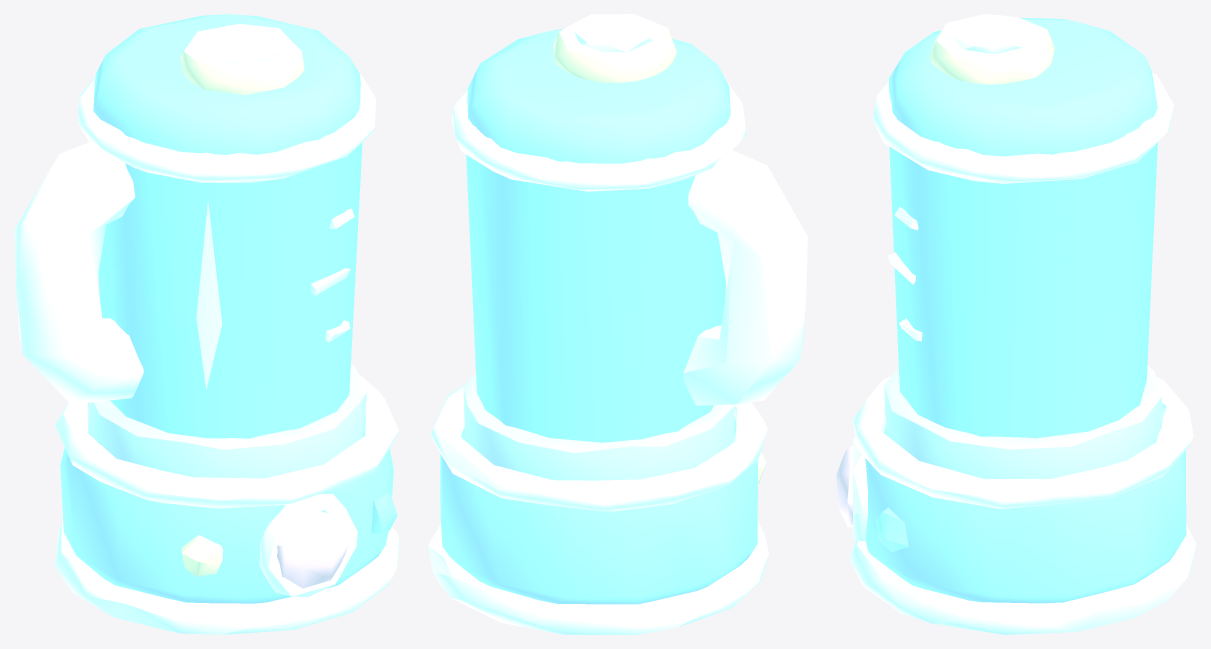
File: props__Converter.glb
3 renders of one model, left to right at view 1: azimuth 30°, elevation 25°; view 2: azimuth 150°, elevation 25°; view 3: azimuth 270°, elevation 25°, orthographic.
Visible parts, largest first — view 1: Converter; view 2: Converter; view 3: Converter.
Boxes of the visible parts, box(x1,y1,x2,y2) form: Converter: box(14, 14, 399, 634); Converter: box(428, 14, 807, 634); Converter: box(836, 14, 1196, 634).
Size of the model in its own units: 8.06 by 11.44 by 6.98.
